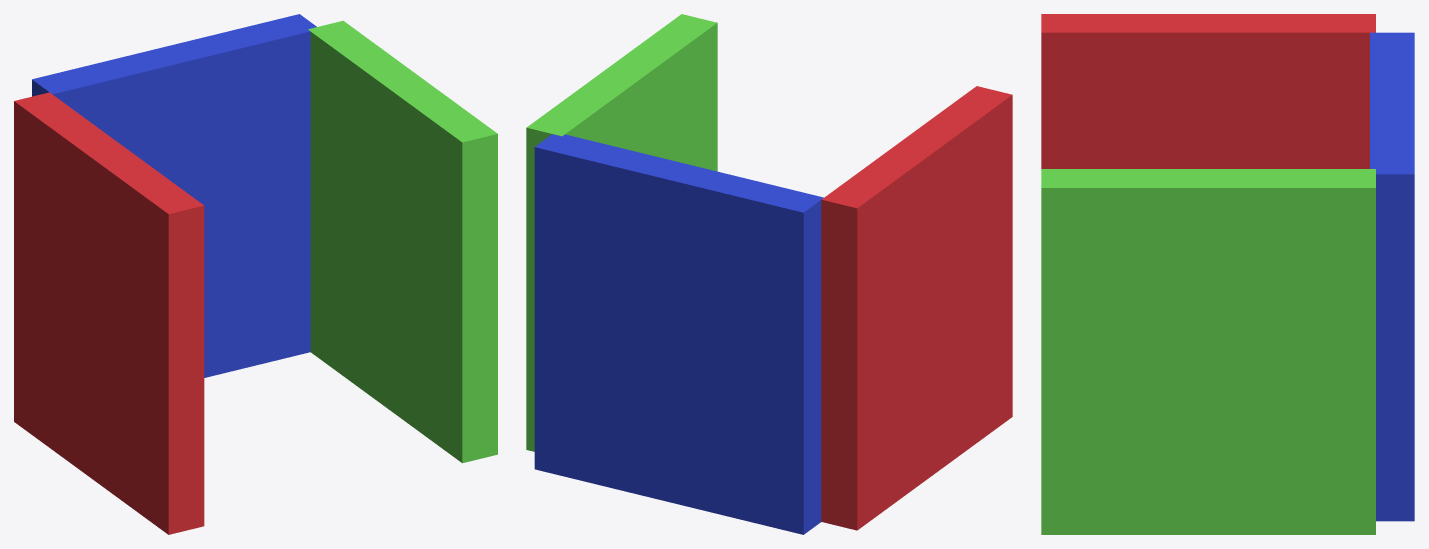
The model's file is walls.gltf.
3 renders of one model, left to right at view 1: azimuth 30°, elevation 25°; view 2: azimuth 150°, elevation 25°; view 3: azimuth 270°, elevation 25°, orthographic. The views are drawn at different scales.
Visible parts, largest first — view 1: Cube.001; view 2: Cube.001; view 3: Cube.001.
Boxes of the visible parts, x1,y1,x2,y2 form: Cube.001: (14, 14, 497, 534); Cube.001: (526, 14, 1012, 534); Cube.001: (1041, 14, 1414, 534).
Bounding box in the file's own units: 18.49 × 17.21 × 16.76.
Materials: 1 (1 with a texture image).
